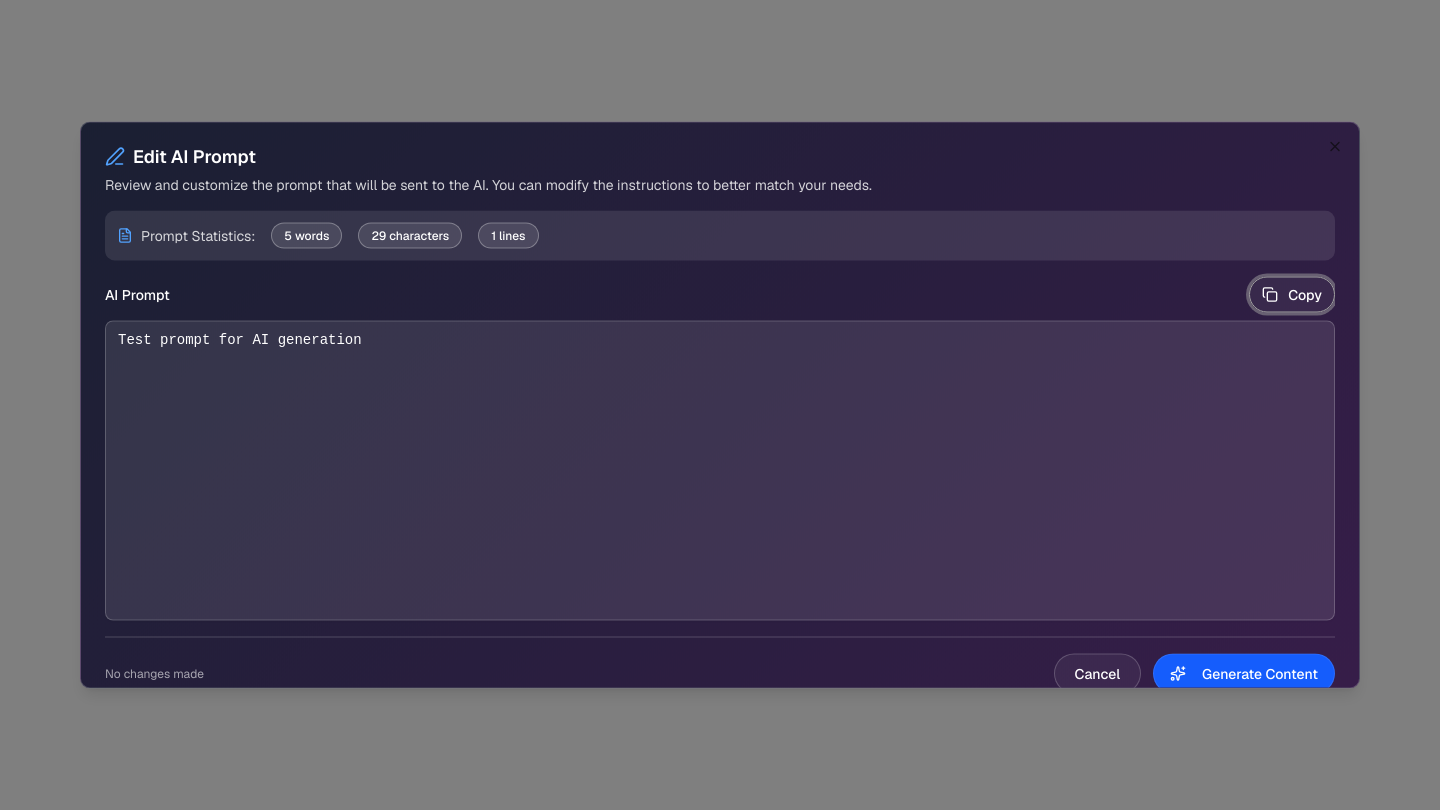
Test: PromptEditorModal Component › should reset prompt when reset button is clicked
This screenshot has width=1440, height=810.
Step 1. Replace the text in the text box showing "Test prompt for AI generation" with "Edited prompt" → {"x": 720, "y": 470}, box [105,320,1335,620]
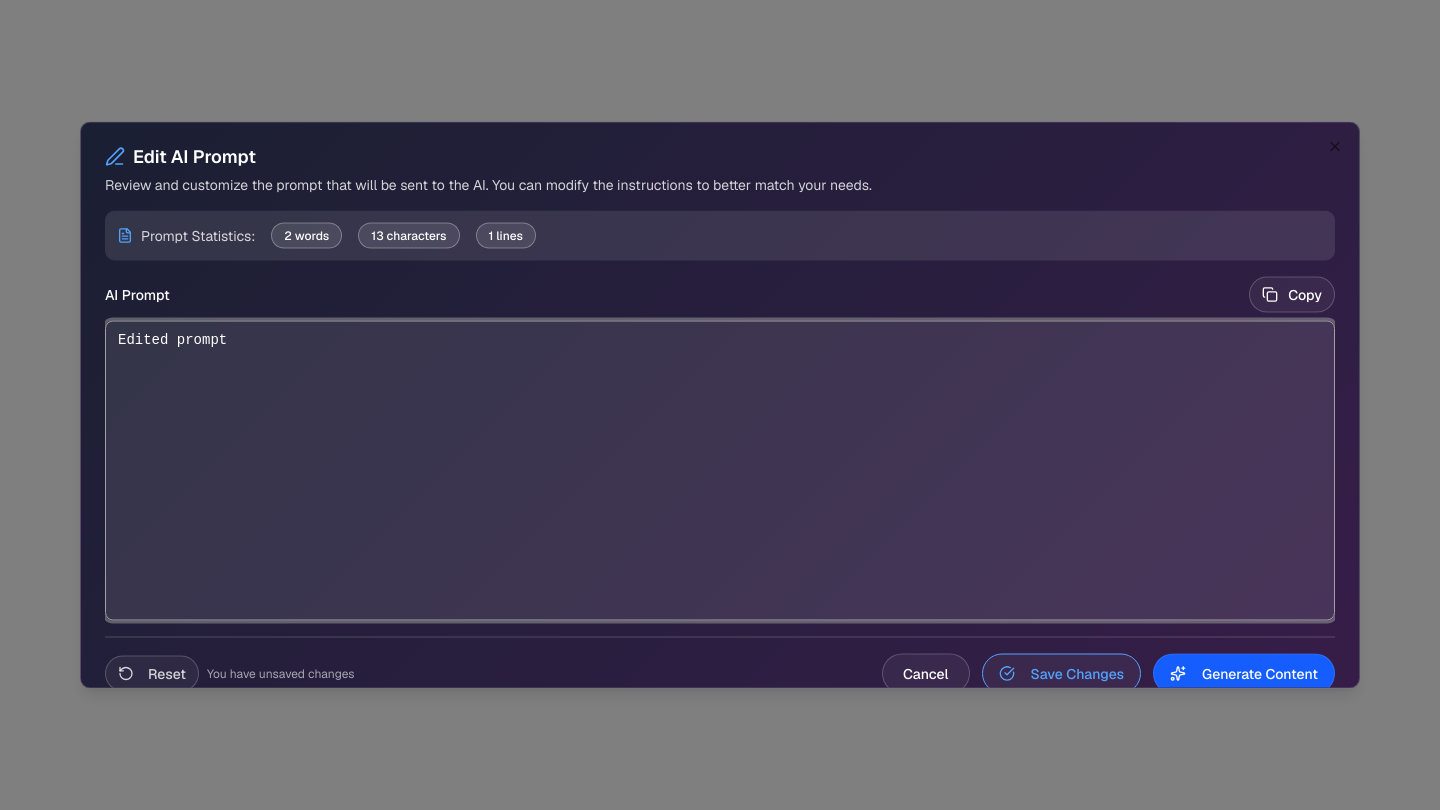
Step 2. Click the button "Reset" → {"x": 152, "y": 674}, box [105,656,199,692]
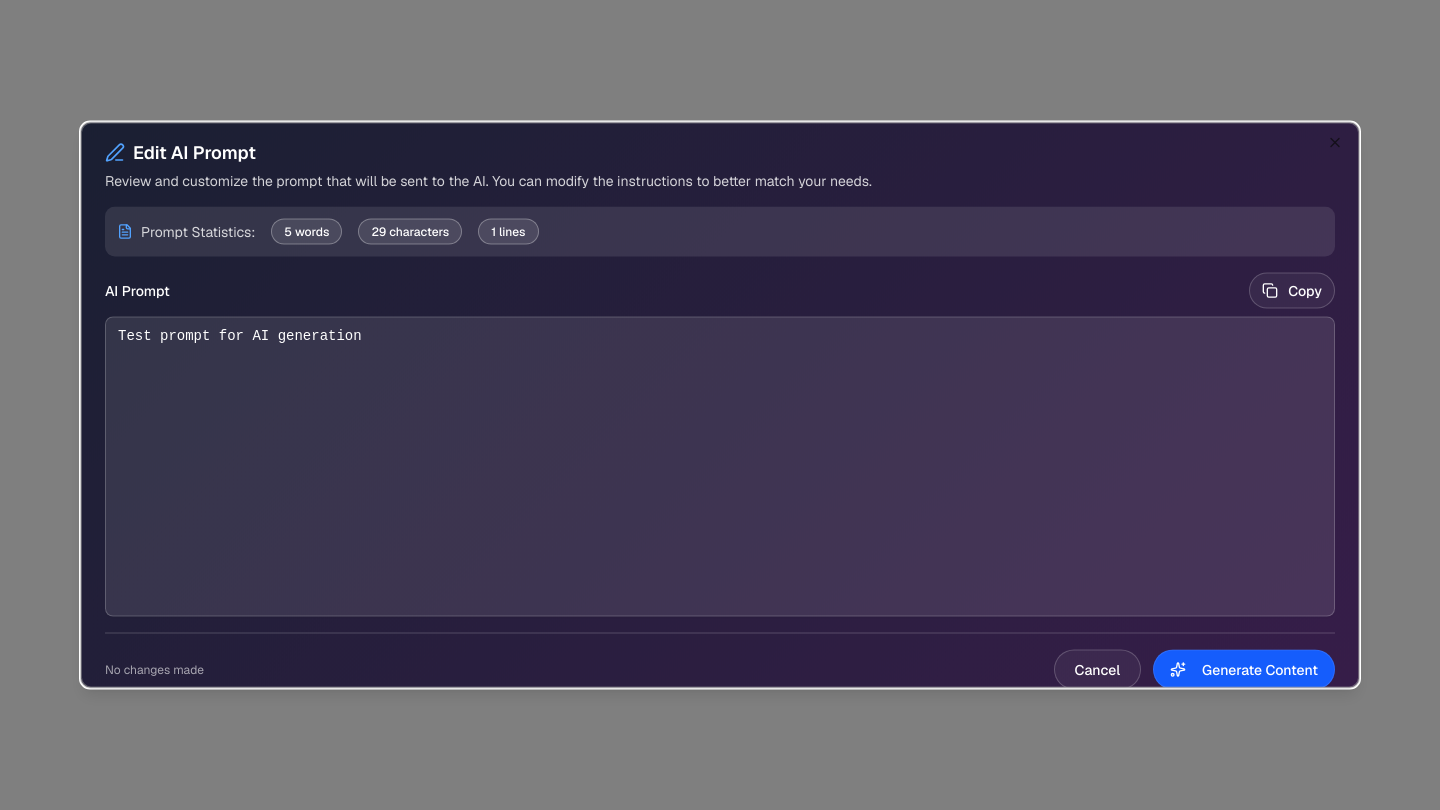
Expected: the text box showing "Test prompt for AI generation" holds "Test prompt for AI generation", [105,316,1335,616]
Expected: the text "You have unsaved changes" is gone
